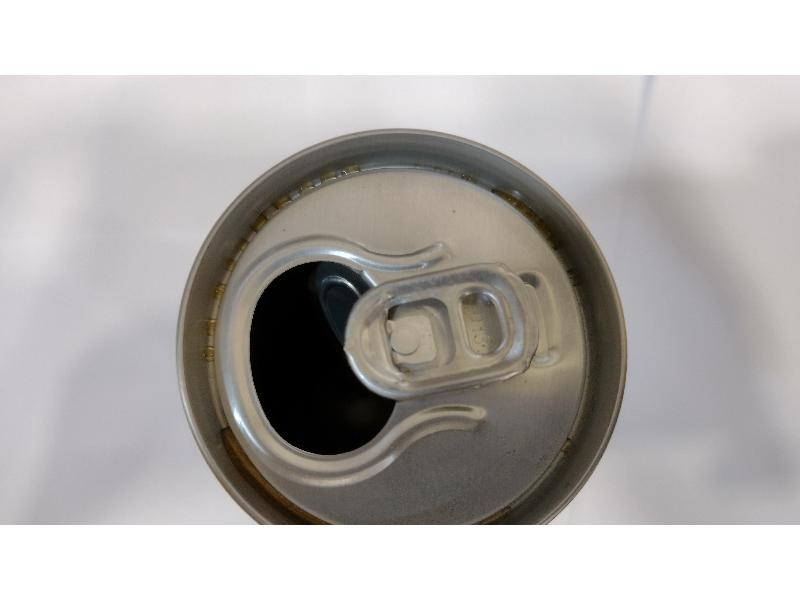can: (178, 130, 627, 527)
